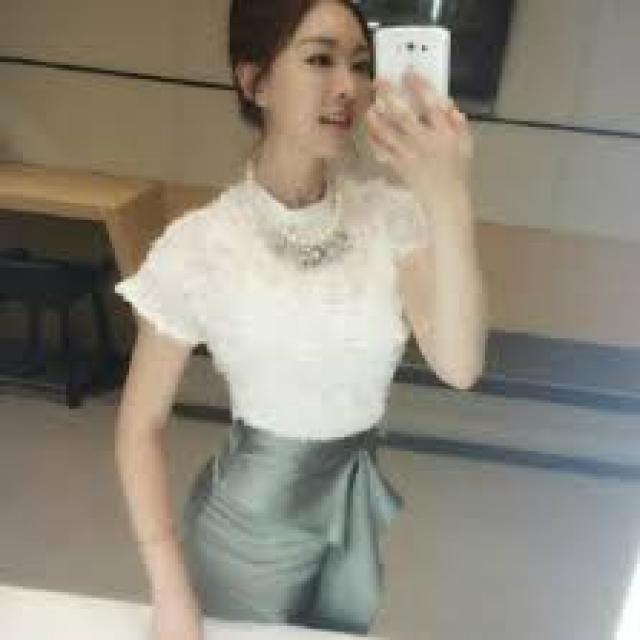Phone: (369, 25, 452, 140)
